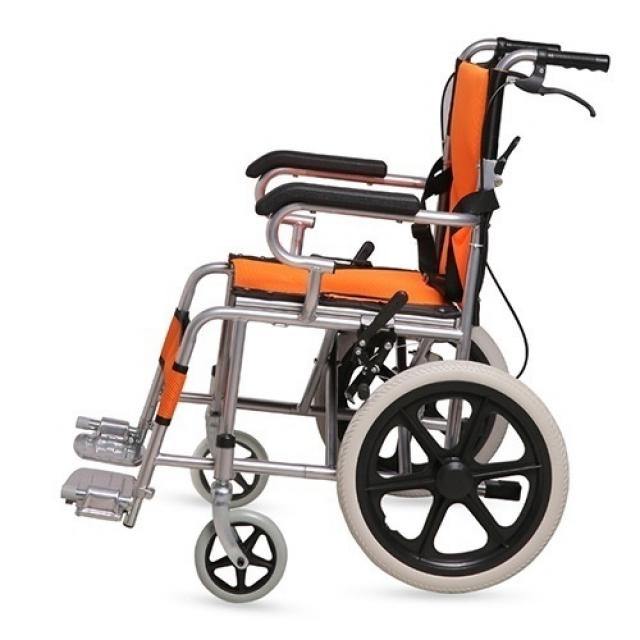wheelchair: (55, 27, 622, 622)
